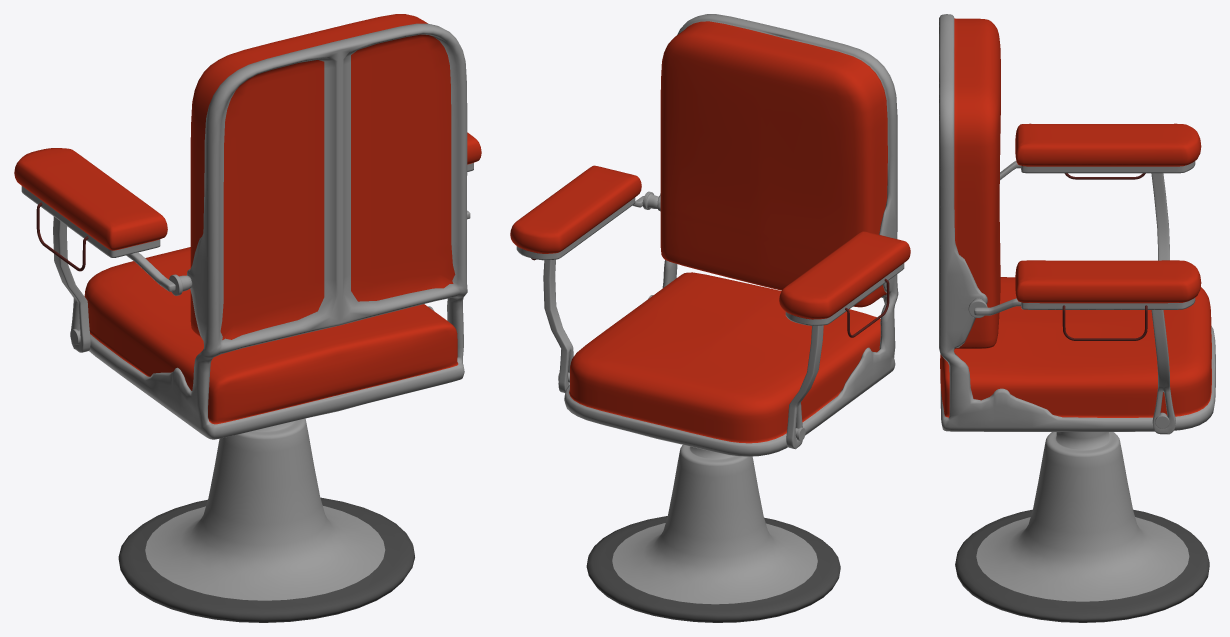
File: chair_this.FBX
3 renders of one model, left to right at view 1: azimuth 30°, elevation 25°; view 2: azimuth 150°, elevation 25°; view 3: azimuth 270°, elevation 25°, orthographic. The views are drawn at different scales.
Parts seen in each view (by area): view 1: chair001; view 2: chair001; view 3: chair001.
Boxes of the visible parts, bbox=[...] form: chair001: bbox=[14, 14, 481, 622]; chair001: bbox=[510, 14, 910, 622]; chair001: bbox=[939, 14, 1215, 622].
Size of the model in its own units: 98.12 by 145 by 70.5.
